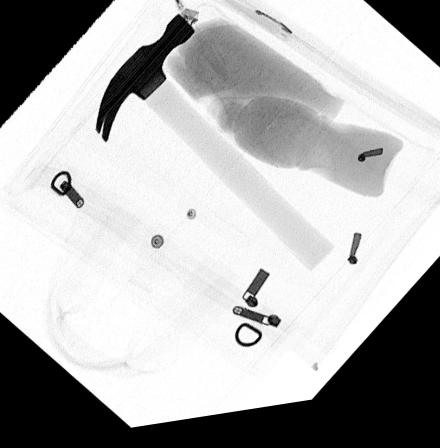Hammer: (93, 17, 335, 282)
